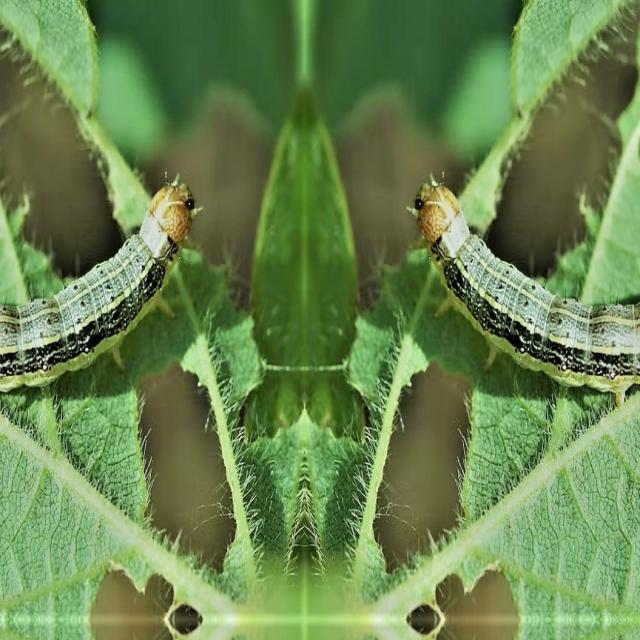armyworm: (406, 169, 639, 408), (0, 169, 203, 394)
